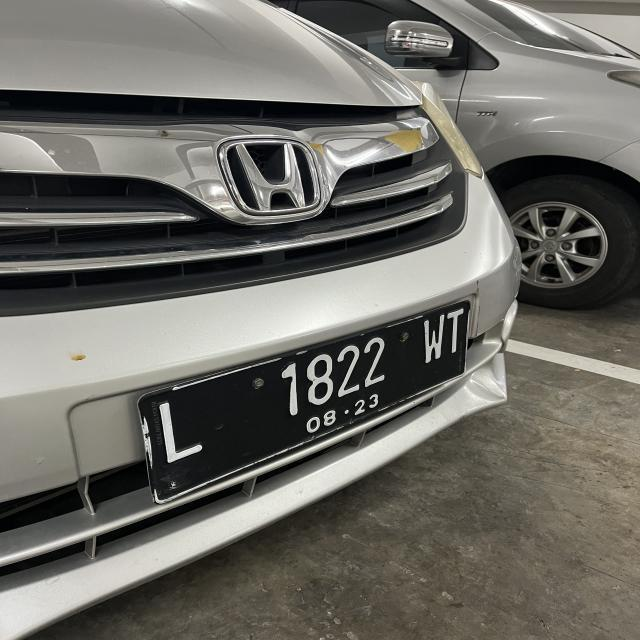1: (280, 360, 302, 422)
2: (336, 344, 364, 398), (365, 336, 388, 389)
8: (307, 356, 333, 403)
L: (154, 399, 210, 460)
T: (443, 309, 463, 358)
W: (420, 316, 442, 364)
